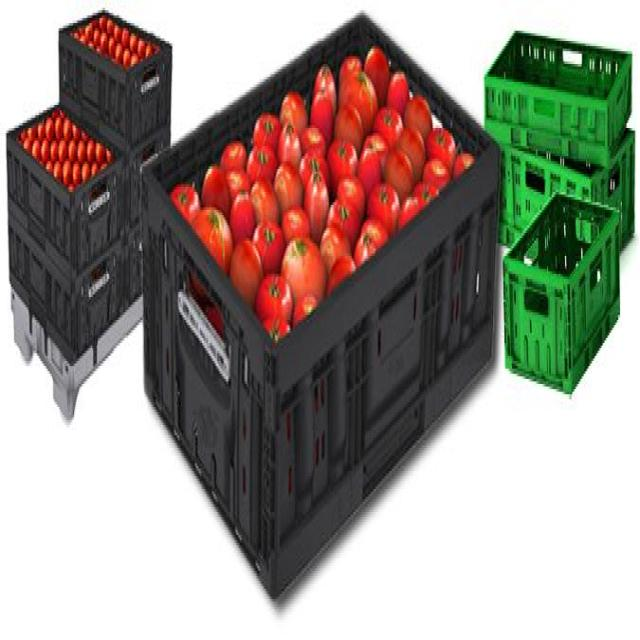basket: (0, 201, 153, 368), (503, 191, 622, 391), (4, 128, 124, 271), (500, 128, 636, 244), (57, 12, 171, 148), (101, 115, 174, 230)
